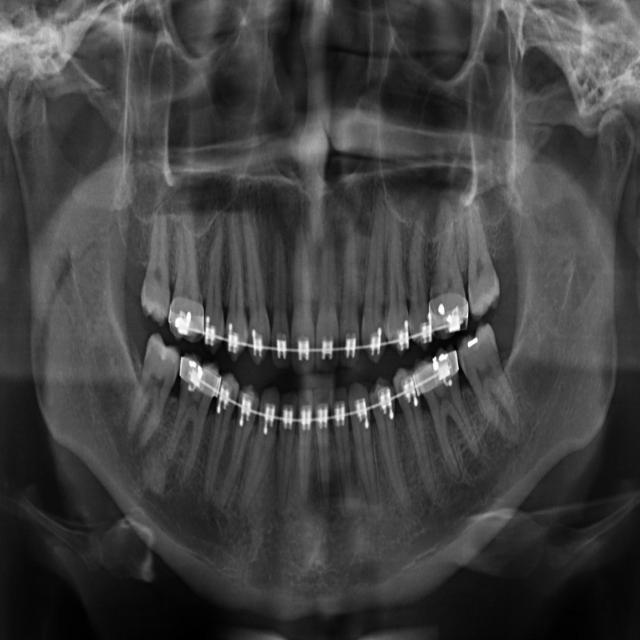AGS Medikal Implant: (449, 319, 528, 451)
AMerOss Implant: (409, 342, 494, 484)
Amalgam filling: (139, 192, 175, 328)
Anthogyr Implant: (390, 364, 440, 507)
Bicon Implant: (366, 375, 416, 521)
BioHorizons Implant: (346, 379, 384, 524)
BioLife Implant: (329, 383, 356, 520)
Biomet 3i Implant: (313, 385, 331, 511)
Blue Sky Bio Implant: (297, 387, 313, 507)
Camlog Implant: (272, 388, 298, 514)
Caries: (337, 217, 361, 369)
Composite filling: (235, 383, 287, 522)
Cowellmedi Implant: (213, 382, 263, 510)
Crown: (193, 370, 243, 505)
DENTSPLY Implant: (169, 214, 205, 344)
Dentatus Implant: (161, 351, 224, 493)
Dentis Implant: (121, 329, 186, 455)
Euroteknika Implant: (202, 210, 233, 356)
Filling: (225, 205, 250, 364)
Frontier Implant: (240, 203, 273, 366)
Hiossen Implant: (361, 186, 386, 364)
Implant: (289, 220, 318, 376)
Implant Direct: (271, 226, 289, 370)
Keystone Dental Implant: (314, 214, 345, 375)
MIS Implant: (376, 201, 412, 357)
Mandible: (402, 206, 437, 351)
Maxilla: (419, 194, 471, 342)
Megagen Implant: (459, 192, 503, 322)
